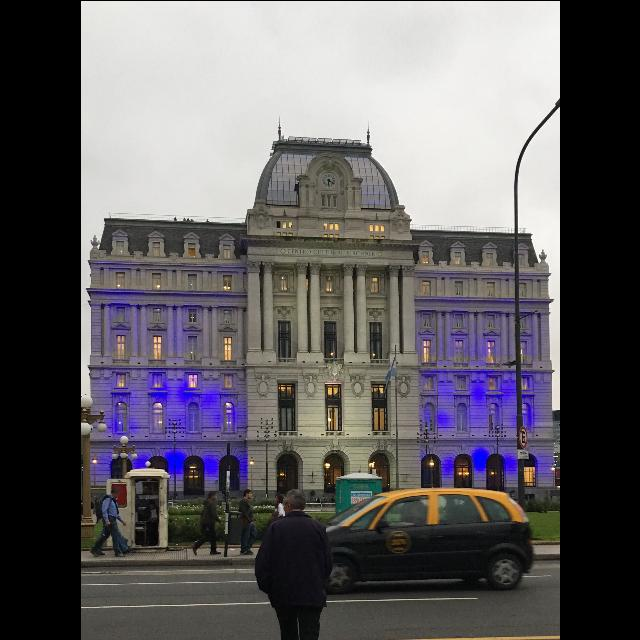head: (282, 488, 306, 516), (110, 487, 120, 498), (208, 491, 218, 501), (244, 489, 252, 499), (274, 493, 282, 502), (148, 500, 154, 510), (110, 489, 118, 496), (318, 497, 320, 499), (332, 495, 334, 497)
person: (89, 486, 128, 558), (92, 494, 134, 556), (190, 489, 222, 556), (238, 488, 258, 556), (140, 498, 166, 548), (271, 492, 287, 554), (330, 494, 336, 508), (316, 497, 322, 508)
